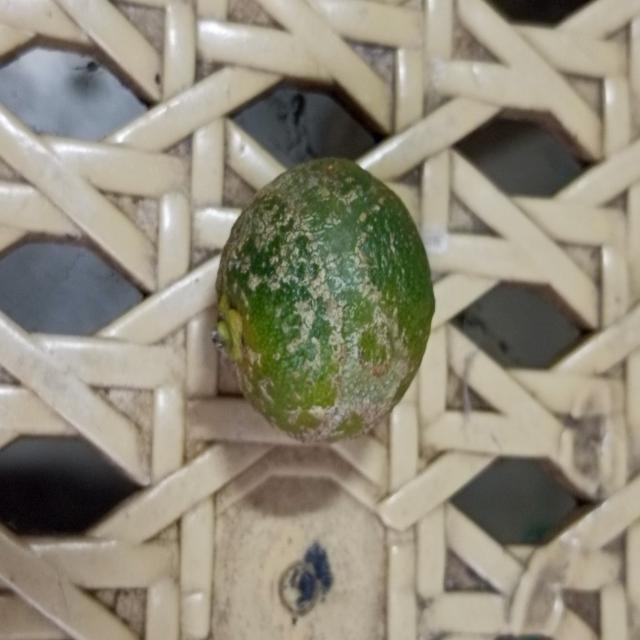thrips: (209, 148, 437, 446)
